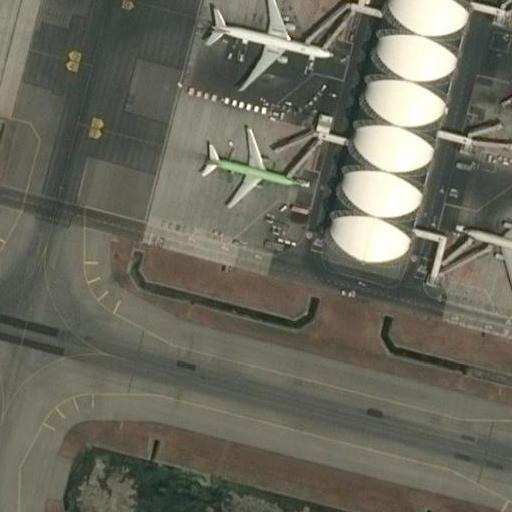Aircraft: (204, 0, 336, 89), (196, 117, 304, 206), (456, 186, 512, 296)
